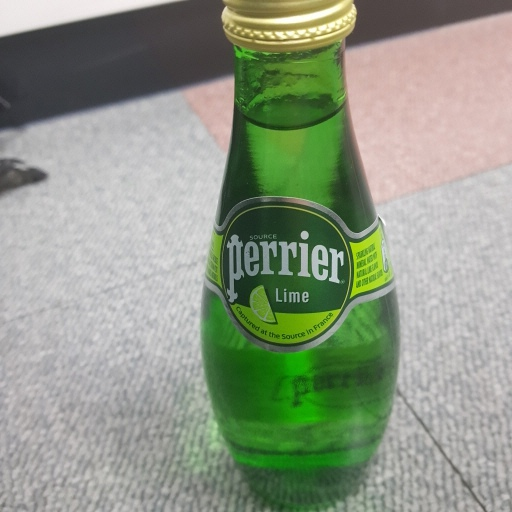Glass_4: (201, 1, 400, 512)
